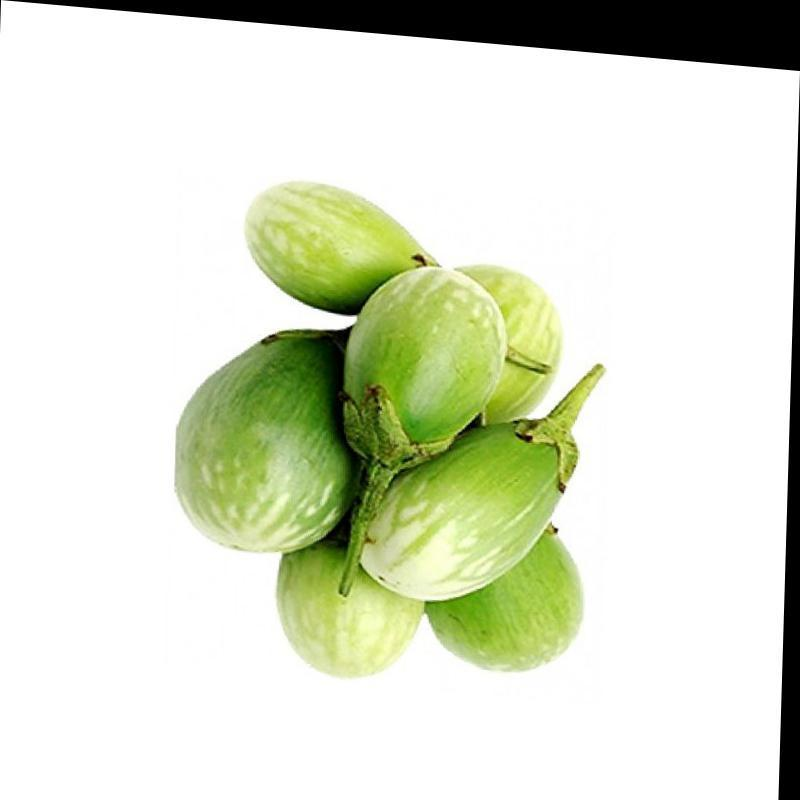eggplant: (137, 123, 658, 730)
